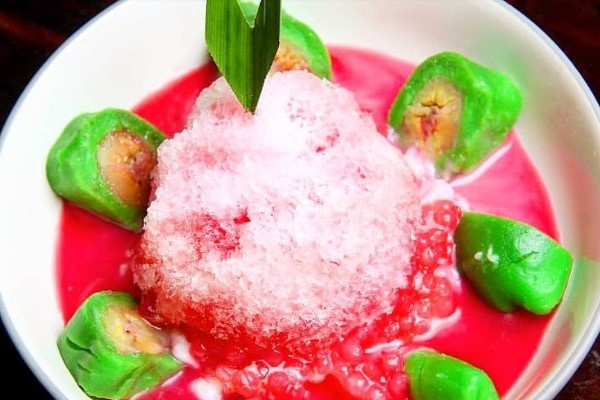pisang_ijo: (393, 35, 526, 182)
